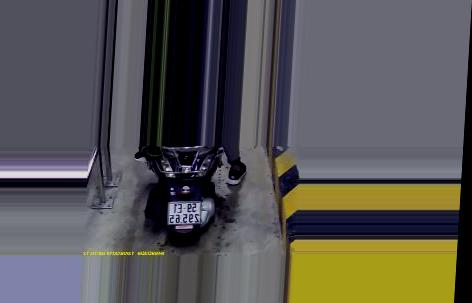License_Plate: (166, 198, 203, 227)
